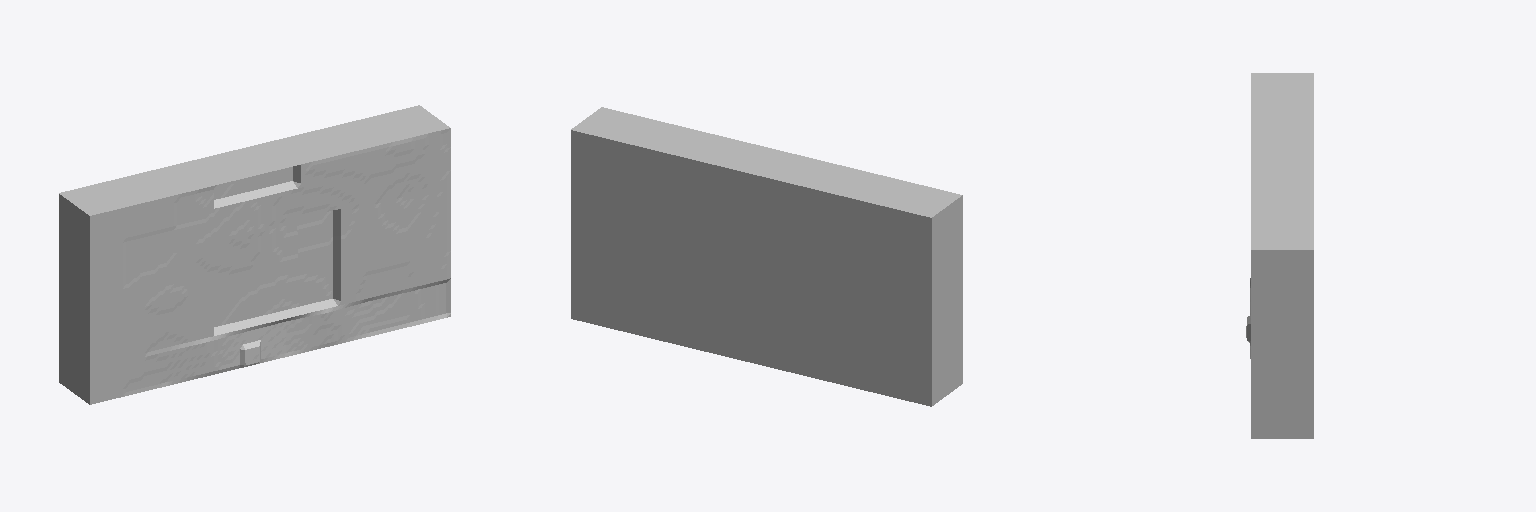
File: rectangular_prism_bumps_0_8.obj
3 renders of one model, left to right at view 1: azimuth 30°, elevation 25°; view 2: azimuth 150°, elevation 25°; view 3: azimuth 270°, elevation 25°, orthographic.
Size of the model in its own units: 10 by 5 by 1.62.